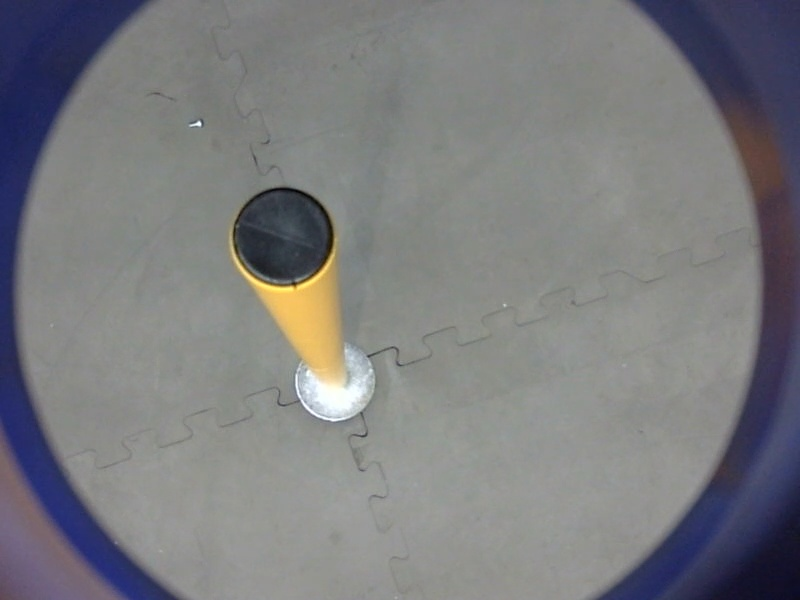tip: (221, 182, 344, 294)
